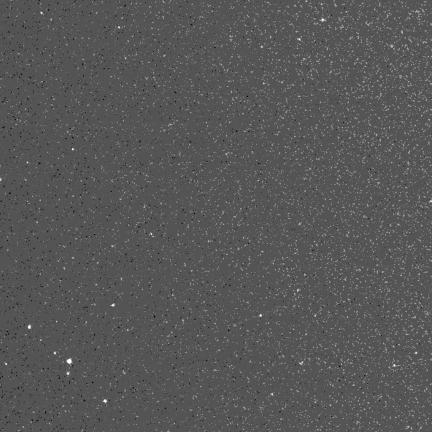blob: (67, 359, 72, 364), (28, 325, 32, 330), (104, 400, 107, 403), (72, 148, 75, 151), (54, 352, 57, 355)
